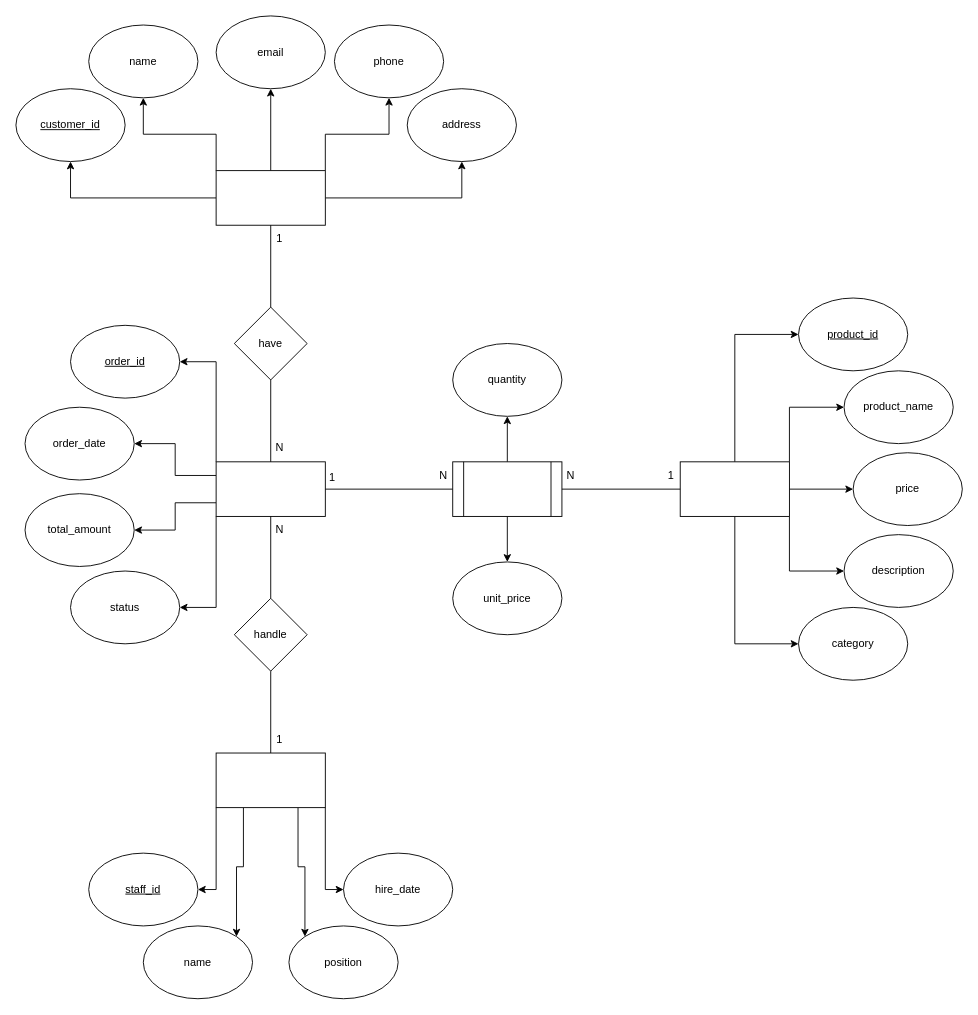
Some shapes in this 978 by 1015 pixel diagram are drawn without their labels. Here are the shapes that lost their labels. From the top down, the centre of each, then its label:
pixel 270 197: Customer
pixel 270 488: Order
pixel 507 488: OrderDetail
pixel 734 488: Product
pixel 270 780: Staff
